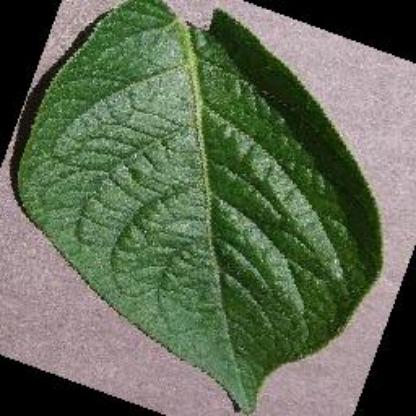Healthy-plant: (11, 0, 375, 412)
